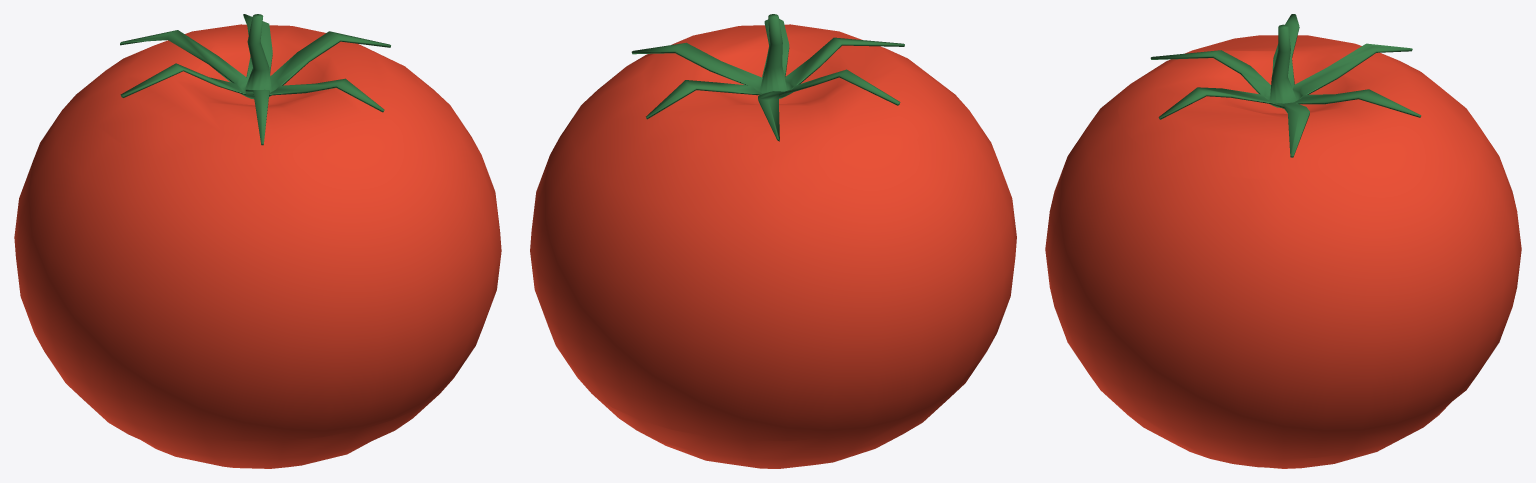
File: tomate.glb
3 views of the same model, side by side, from view 1: azimuth 30°, elevation 25°; view 2: azimuth 150°, elevation 25°; view 3: azimuth 270°, elevation 25° (orthographic). The views are drawn at different scales.
Visible parts, largest first — view 1: tomato_green_0; view 2: tomato_green_0; view 3: tomato_green_0.
Part boxes in pixels (left/top/right/bottom): tomato_green_0: left=14, top=14, right=501, bottom=468; tomato_green_0: left=530, top=14, right=1016, bottom=468; tomato_green_0: left=1045, top=14, right=1521, bottom=468.
Size of the model in its own units: 1.62 by 1.59 by 1.62.
